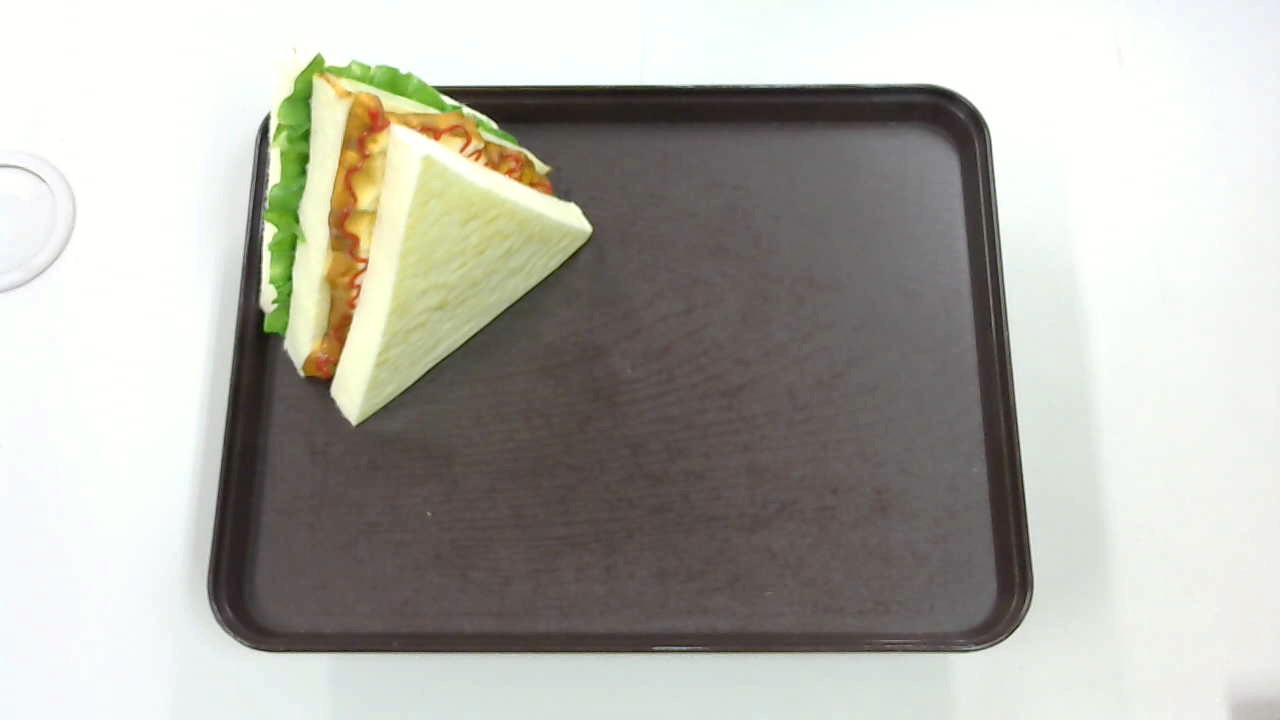sandwich: (257, 44, 593, 427)
